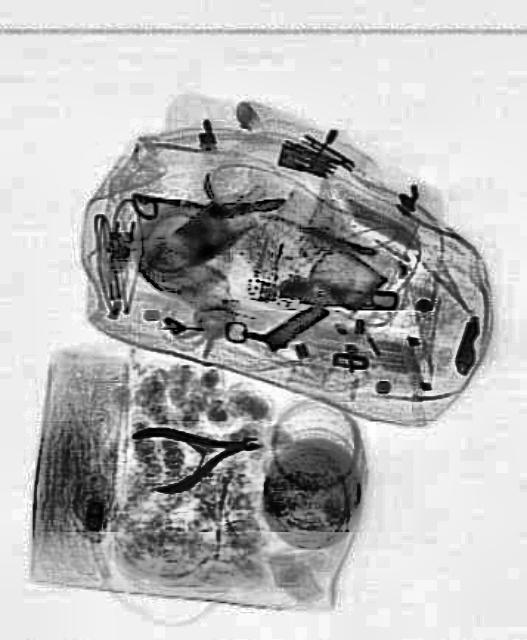Pliers: (129, 404, 265, 500)
